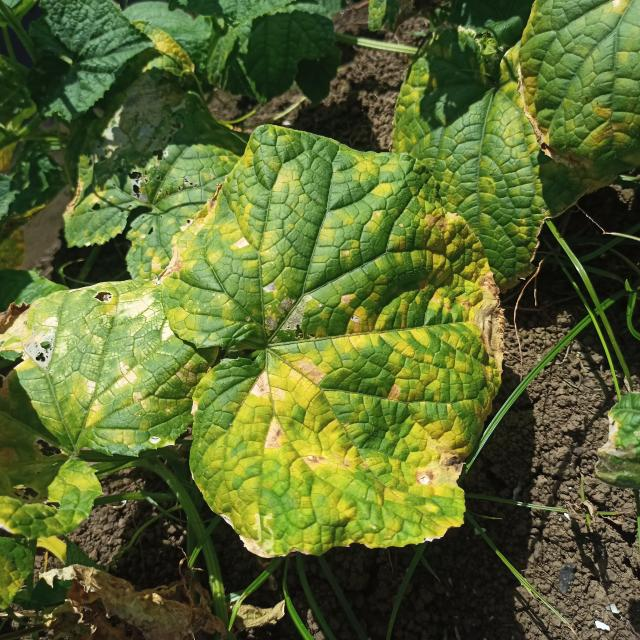disease_cucumber: (164, 122, 504, 558), (17, 271, 195, 453)
